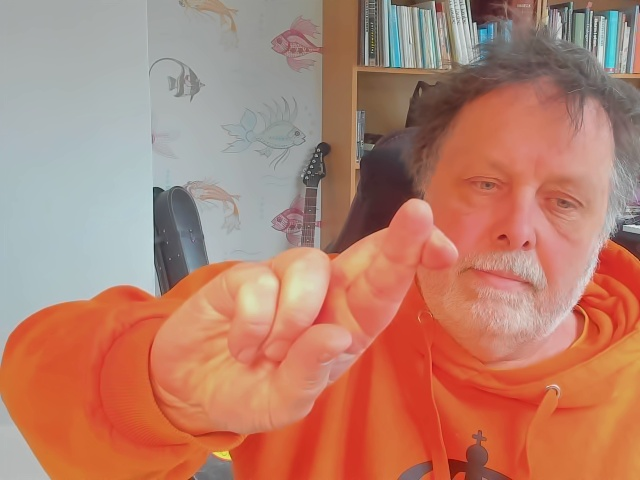fingers_crossed: (150, 199, 458, 433)
